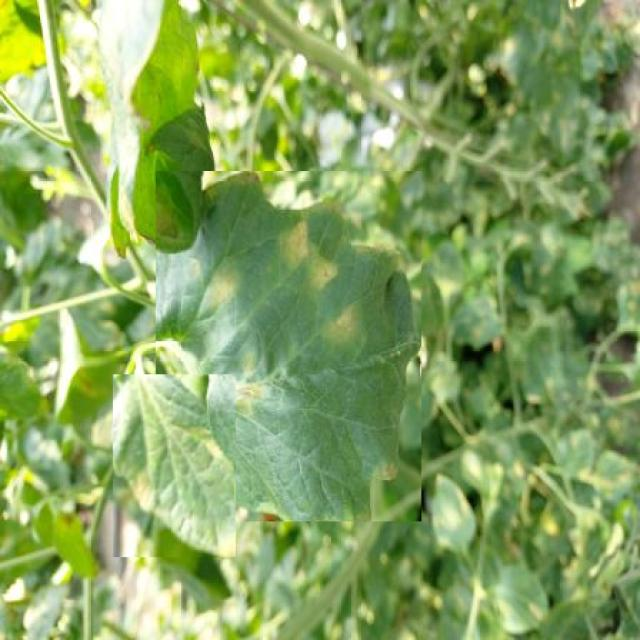Leaf Mold: (156, 170, 421, 521), (114, 374, 236, 557)
